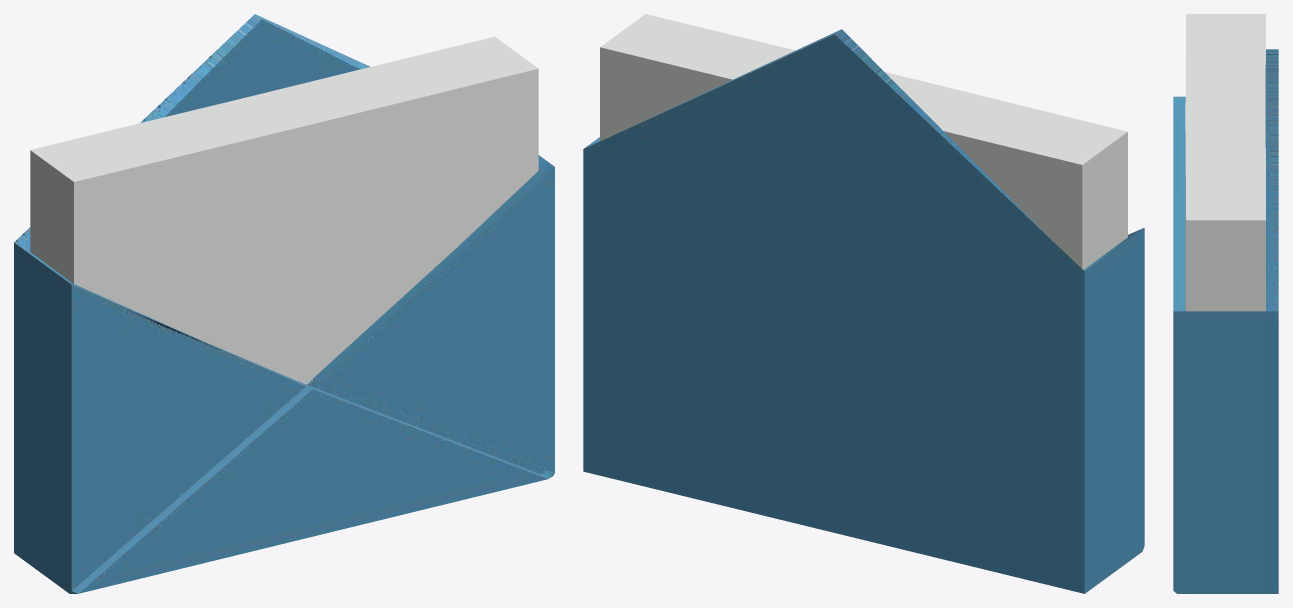
Rendered from Mail-Icon.fbx.
3 renders of one model, left to right at view 1: azimuth 30°, elevation 25°; view 2: azimuth 150°, elevation 25°; view 3: azimuth 270°, elevation 25°, orthographic. The views are drawn at different scales.
Parts seen in each view (by area): view 1: node_id8; view 2: node_id8; view 3: node_id8.
Boxes of the visible parts, bbox=[...] form: node_id8: bbox=[14, 14, 554, 593]; node_id8: bbox=[583, 14, 1144, 593]; node_id8: bbox=[1173, 14, 1278, 593].
Bounding box in the file's own units: 0.1063 × 0.101 × 0.022.
Materials: 1 (1 with a texture image).
